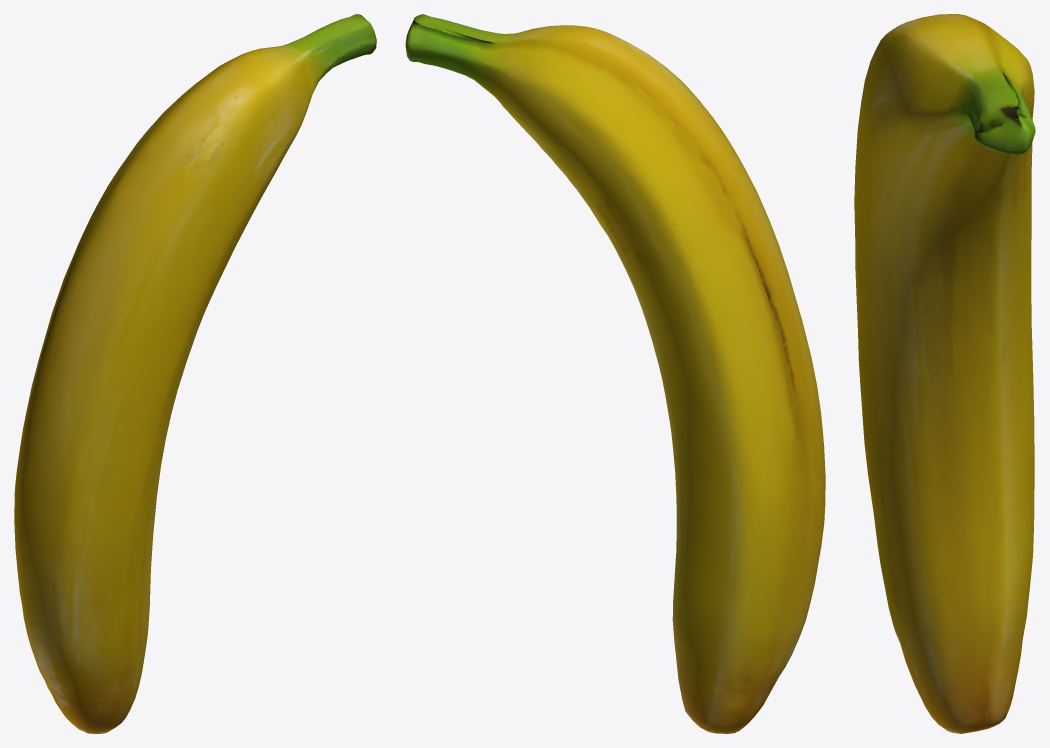
Rendered from 011_banana.obj.
3 views of the same model, side by side, from view 1: azimuth 30°, elevation 25°; view 2: azimuth 150°, elevation 25°; view 3: azimuth 270°, elevation 25° (orthographic). The views are drawn at different scales.
Visible parts, largest first — view 1: 011_banana; view 2: 011_banana; view 3: 011_banana.
Part boxes in pixels (bbox=[...]): 011_banana: bbox=[14, 14, 376, 733]; 011_banana: bbox=[405, 14, 825, 733]; 011_banana: bbox=[854, 14, 1035, 733].
Bounding box in the file's own units: 0.109 × 0.1784 × 0.0368.
1 material, 1 textured.
